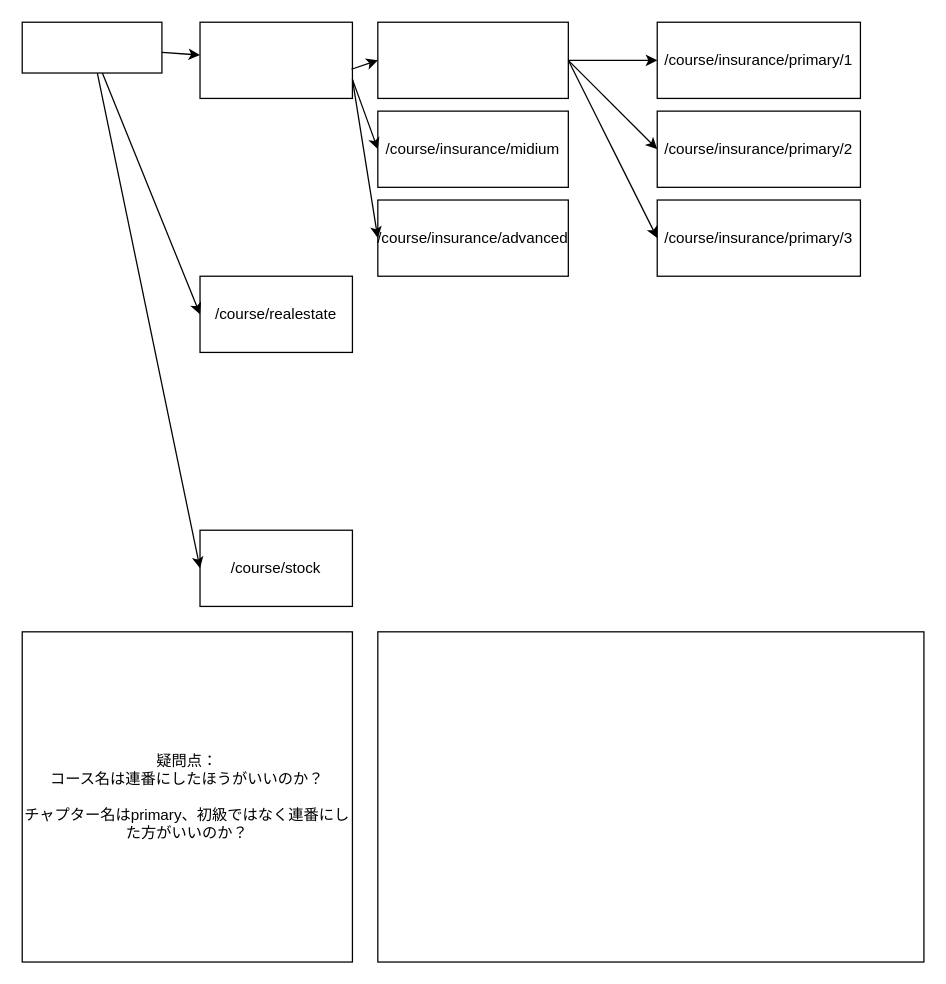
Some shapes in this 946 by 984 pixel diagram are drawn without their labels. The shapes that lost their labels are listed below. From the top down, each one's centre as x and y in pixels, then its label:
At pixel 91 47: "/course".
At pixel 275 59: "/course/insurance".
At pixel 472 59: "/course/insurance/primary".
At pixel 650 796: "/コース一覧/コースのチャプター一覧/mチャプター内の動画一覧/最下層の動画ページ".
